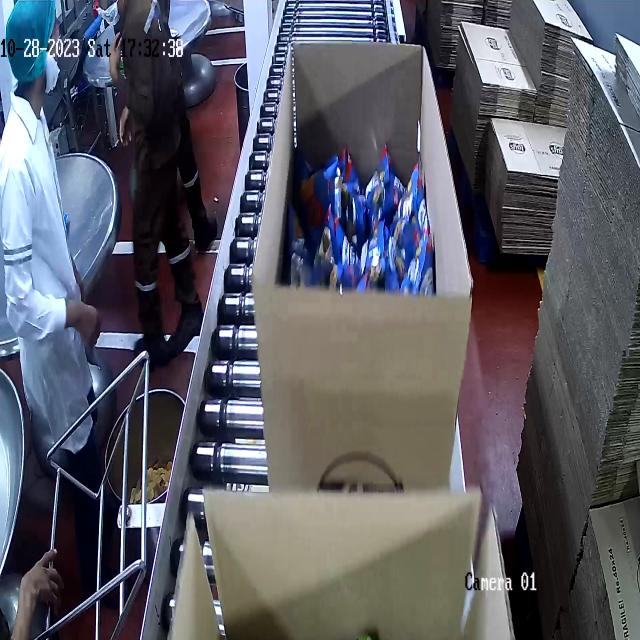PAPRIKA: (291, 147, 432, 305)
